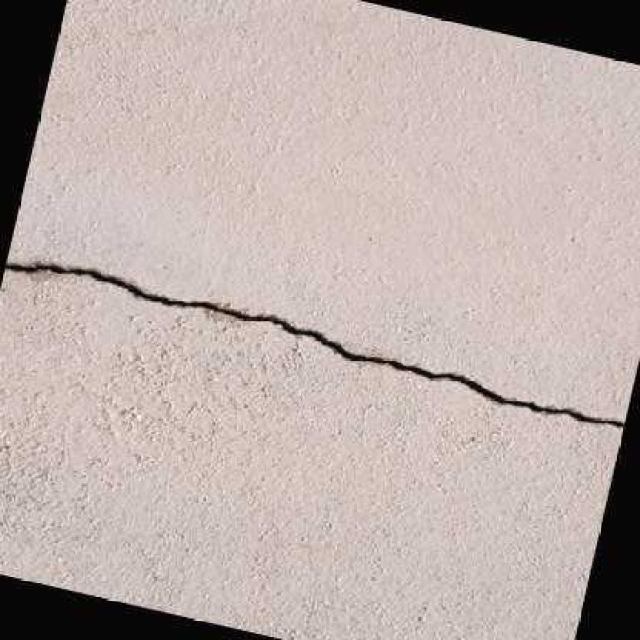D00: (3, 262, 625, 430)
